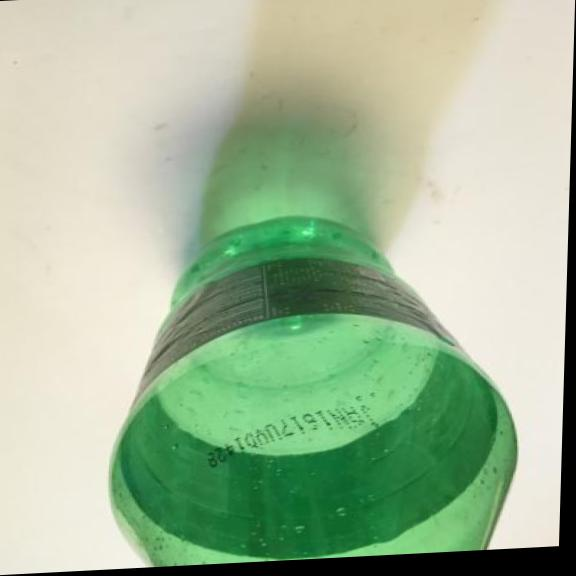Plastik: (91, 202, 536, 570)
